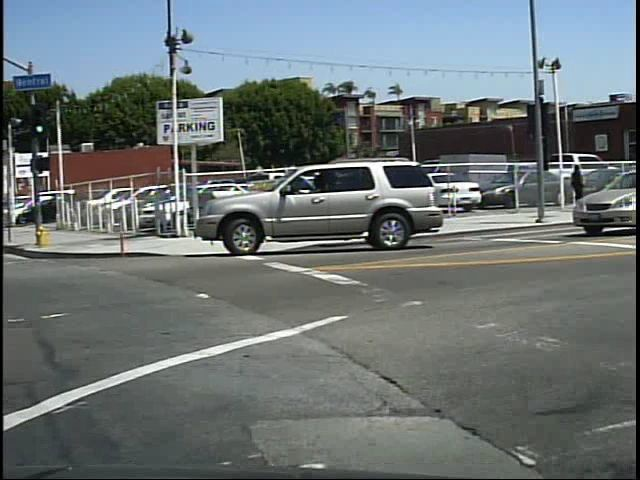person: (571, 162, 593, 215)
